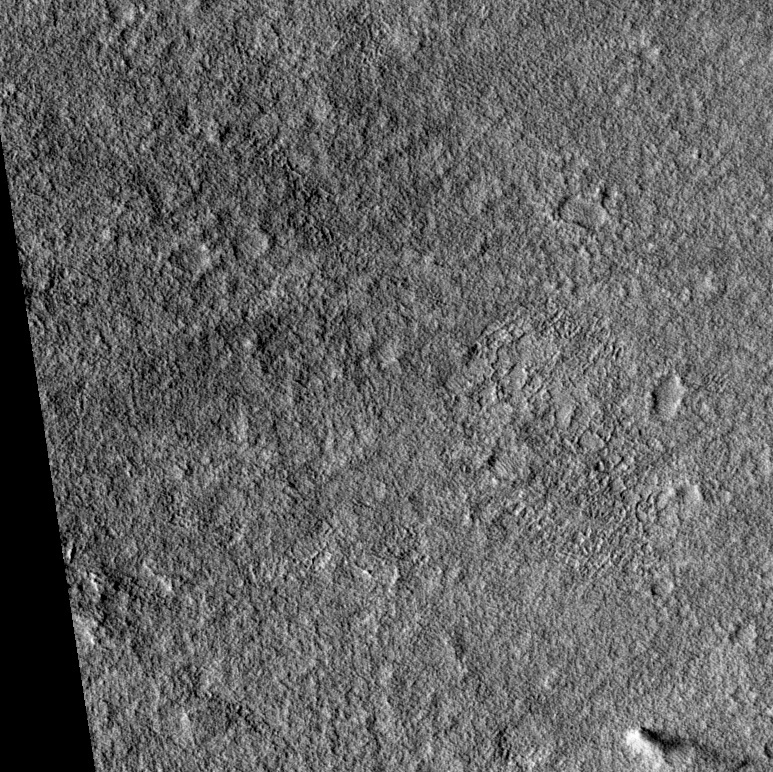dust_devil: (623, 723, 756, 772)
